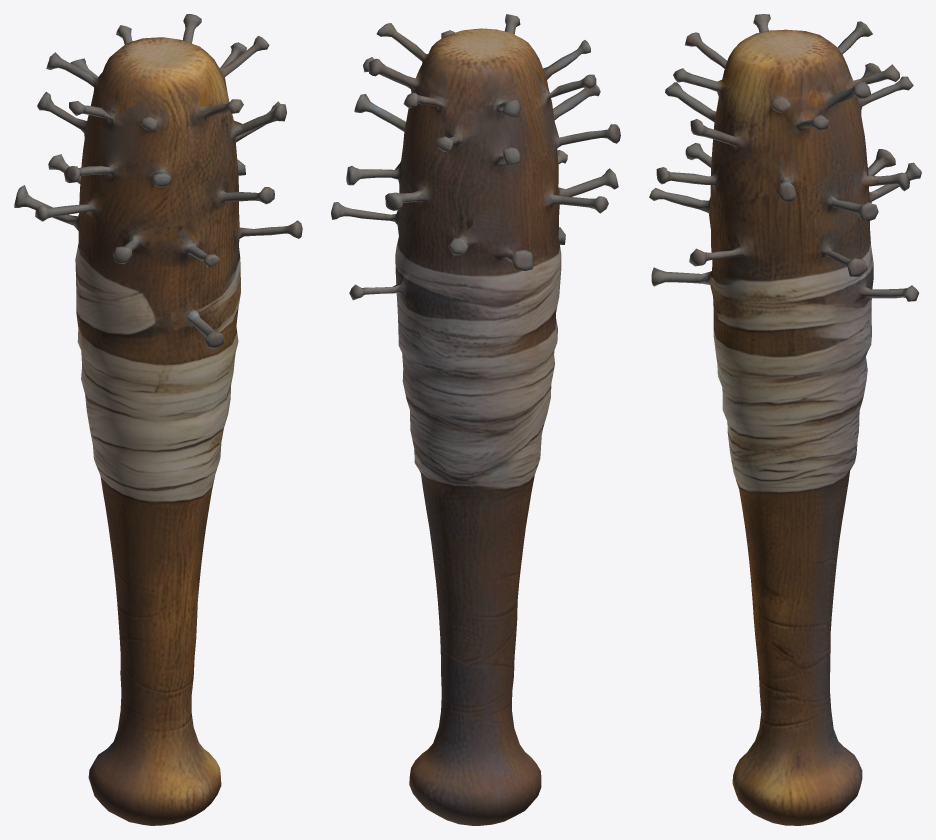
The model's file is spiked_bat.fbx.
3 views of the same model, side by side, from view 1: azimuth 30°, elevation 25°; view 2: azimuth 150°, elevation 25°; view 3: azimuth 270°, elevation 25° (orthographic).
Visible parts, largest first — view 1: spike_bat; view 2: spike_bat; view 3: spike_bat.
Part boxes in pixels (left/top/right/bottom): spike_bat: left=14, top=14, right=302, bottom=825; spike_bat: left=331, top=14, right=620, bottom=825; spike_bat: left=649, top=14, right=921, bottom=825.
Size of the model in its own units: 23.13 by 68.72 by 21.98.
Materials: 1 (1 with a texture image).
